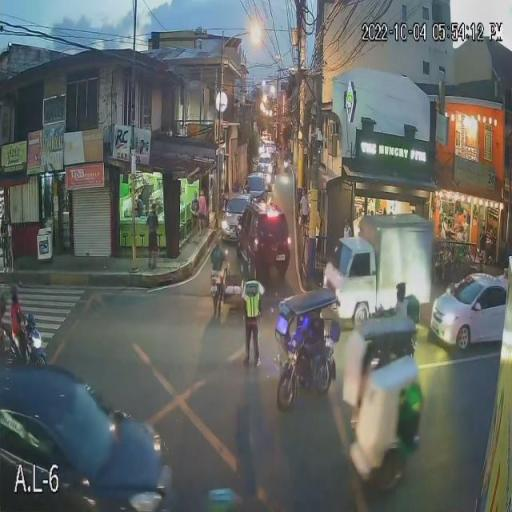helmet: (9, 284, 23, 305), (391, 281, 407, 299)
motorcycle: (274, 357, 341, 412), (0, 312, 51, 368), (210, 260, 226, 306)
rider: (210, 237, 226, 300), (10, 294, 28, 348), (391, 288, 411, 321)
